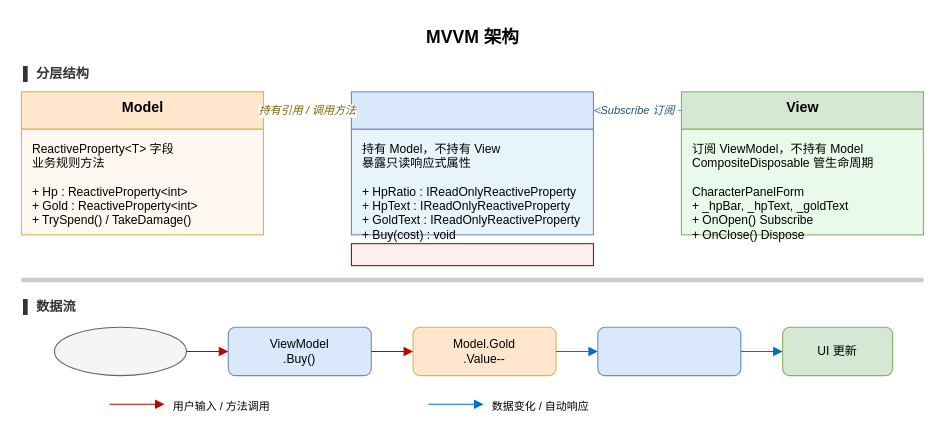
Some shapes in this 944 by 433 pixel diagram are drawn without their labels. The centre of each missing label's shape, as x and y in pixels:
"ViewModel" goes at (x=471, y=110).
"ViewModel 不持有 View 引用" goes at (x=471, y=254).
"用户点击" goes at (x=119, y=351).
"订阅链 自动触发" goes at (x=669, y=351).
